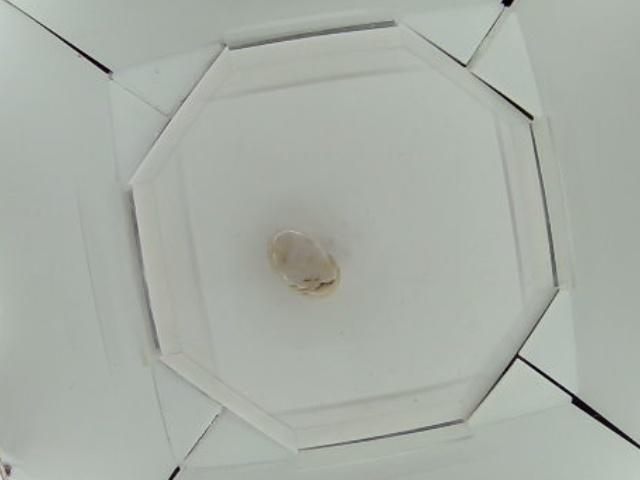Pebble: (263, 228, 339, 303)
